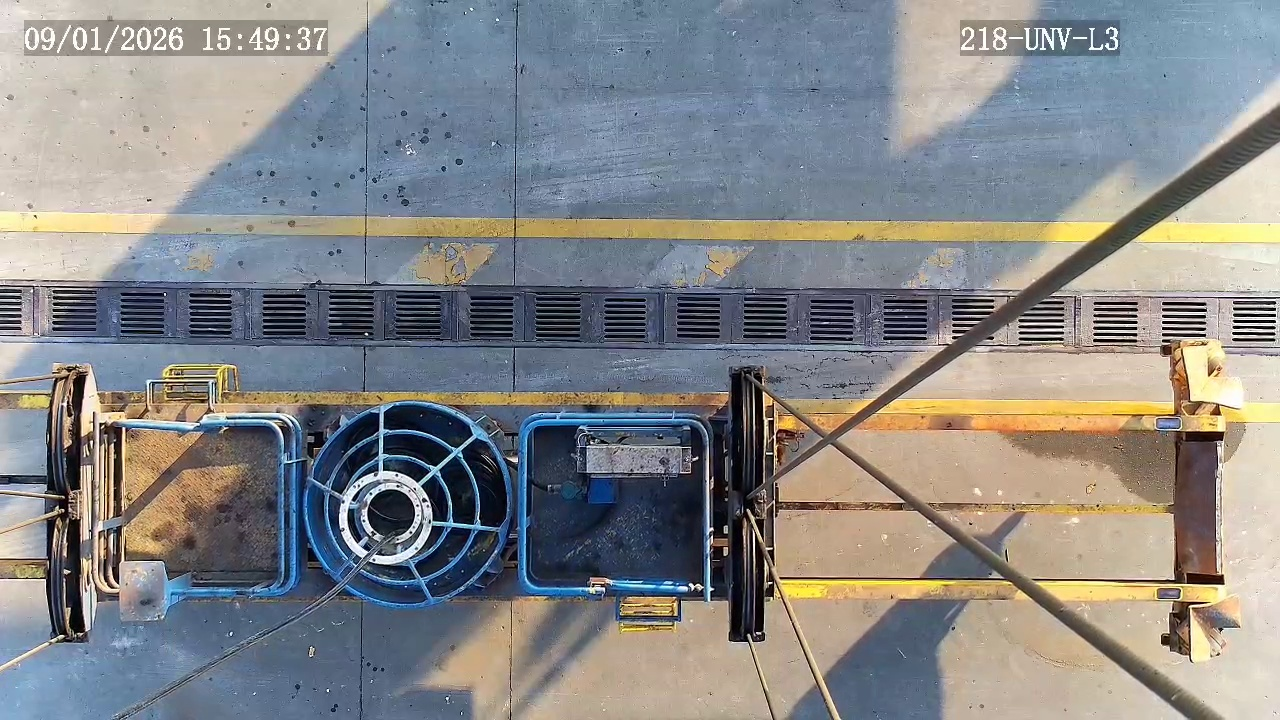right: (336, 470, 433, 564)
